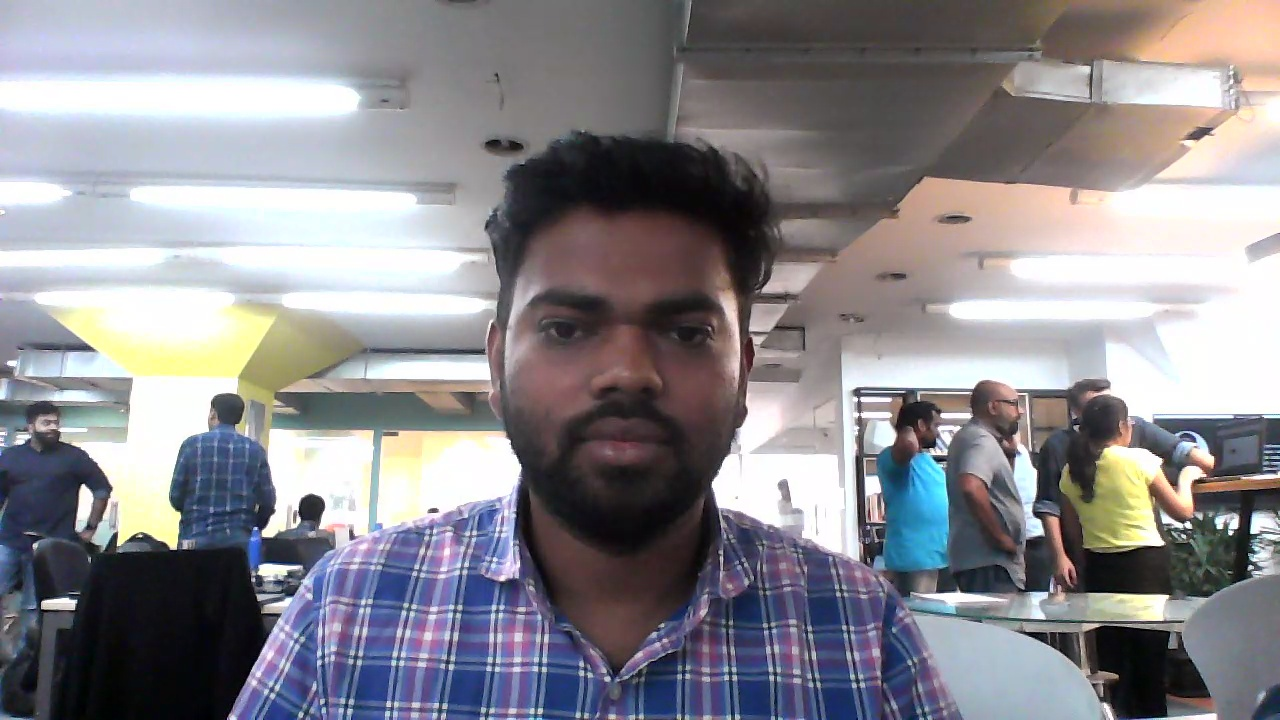open: (481, 130, 789, 548)
